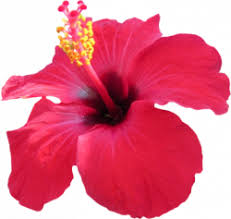hybiscus: (1, 1, 231, 216)
